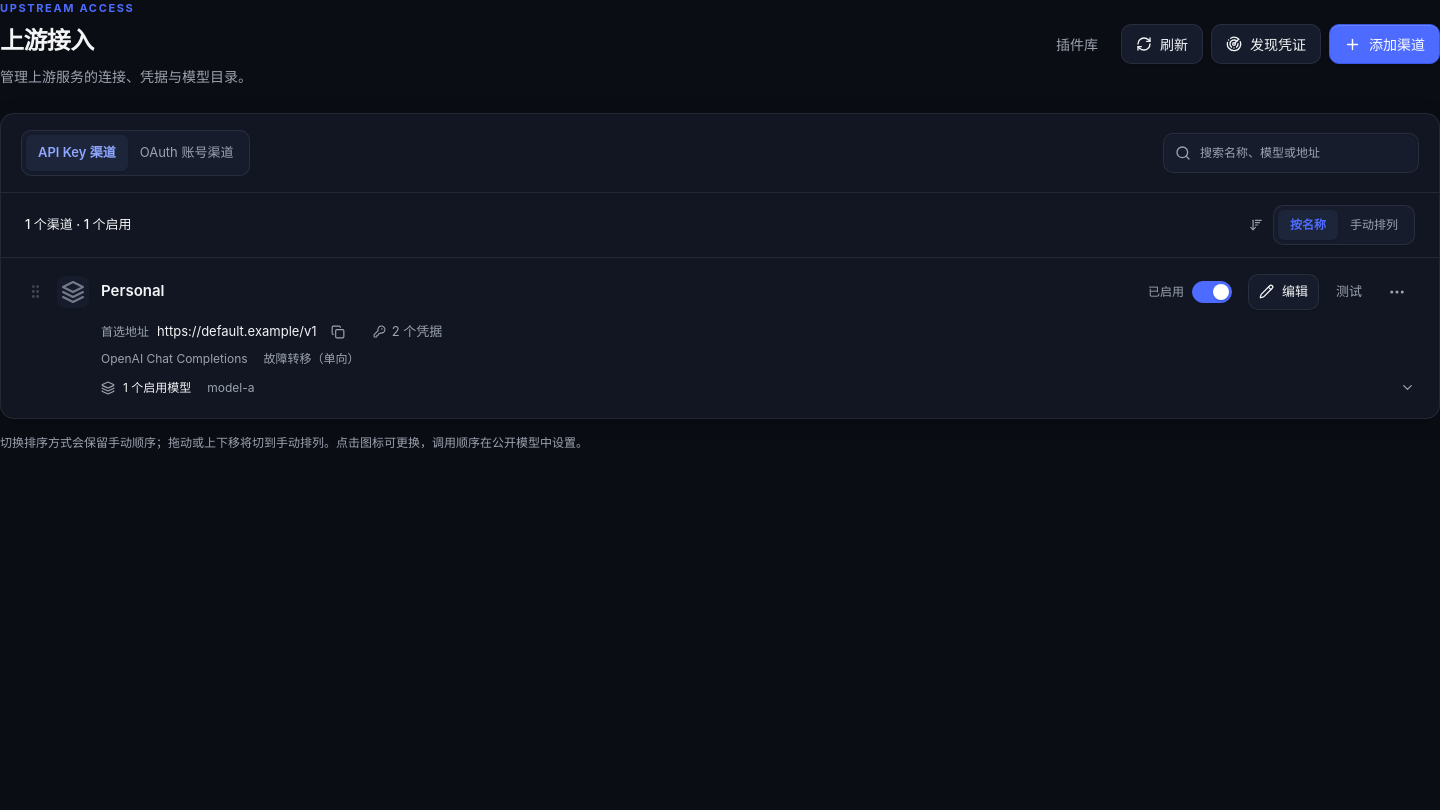
channel editor sections and unified save › waits for a confirmed save to finish before closing the editor
Click the button "Personal".
click(133, 292)  # box [101,276,164,308]
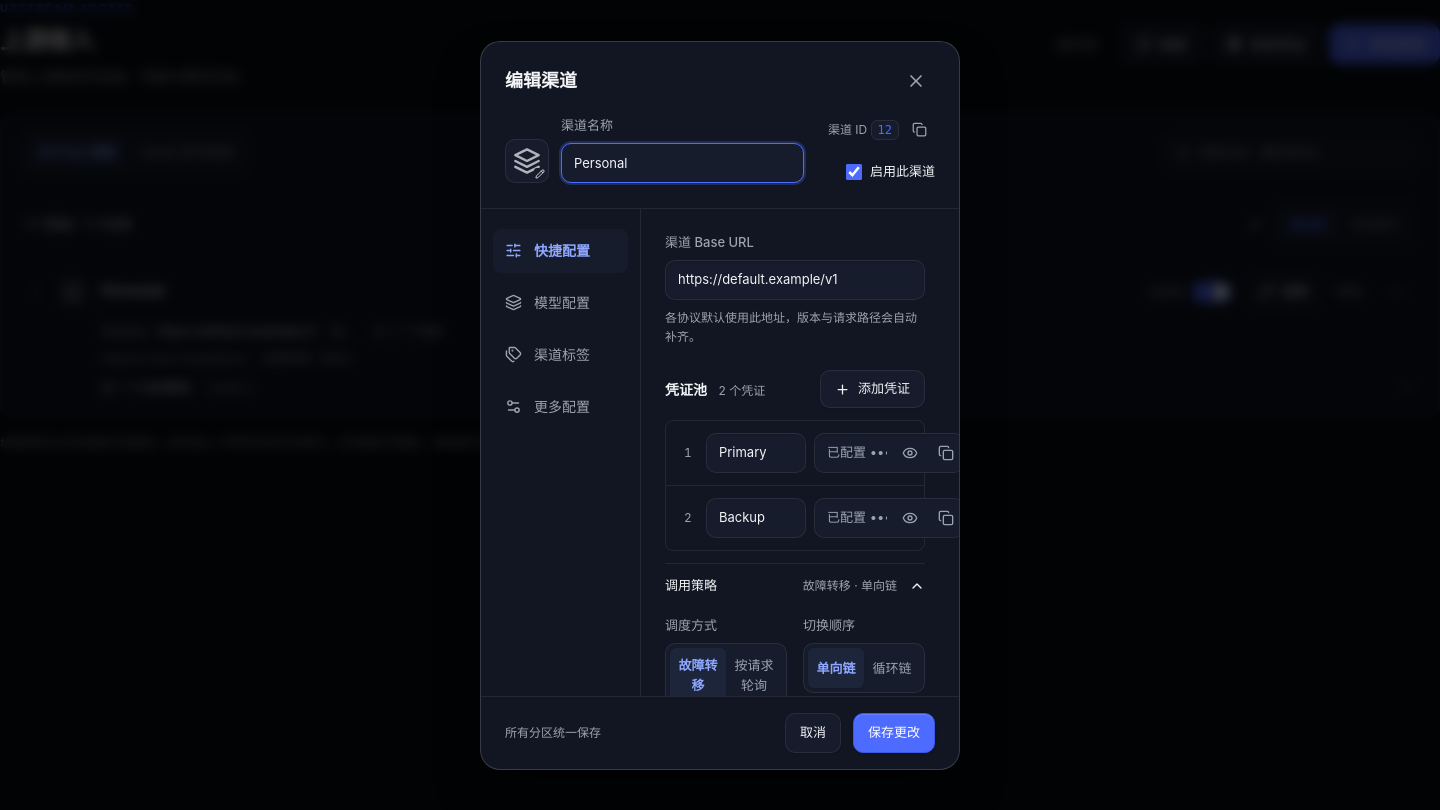
Replace the text in the field labelled "渠道名称" with "Confirmed draft" at [682, 163], box [561,143,804,183]
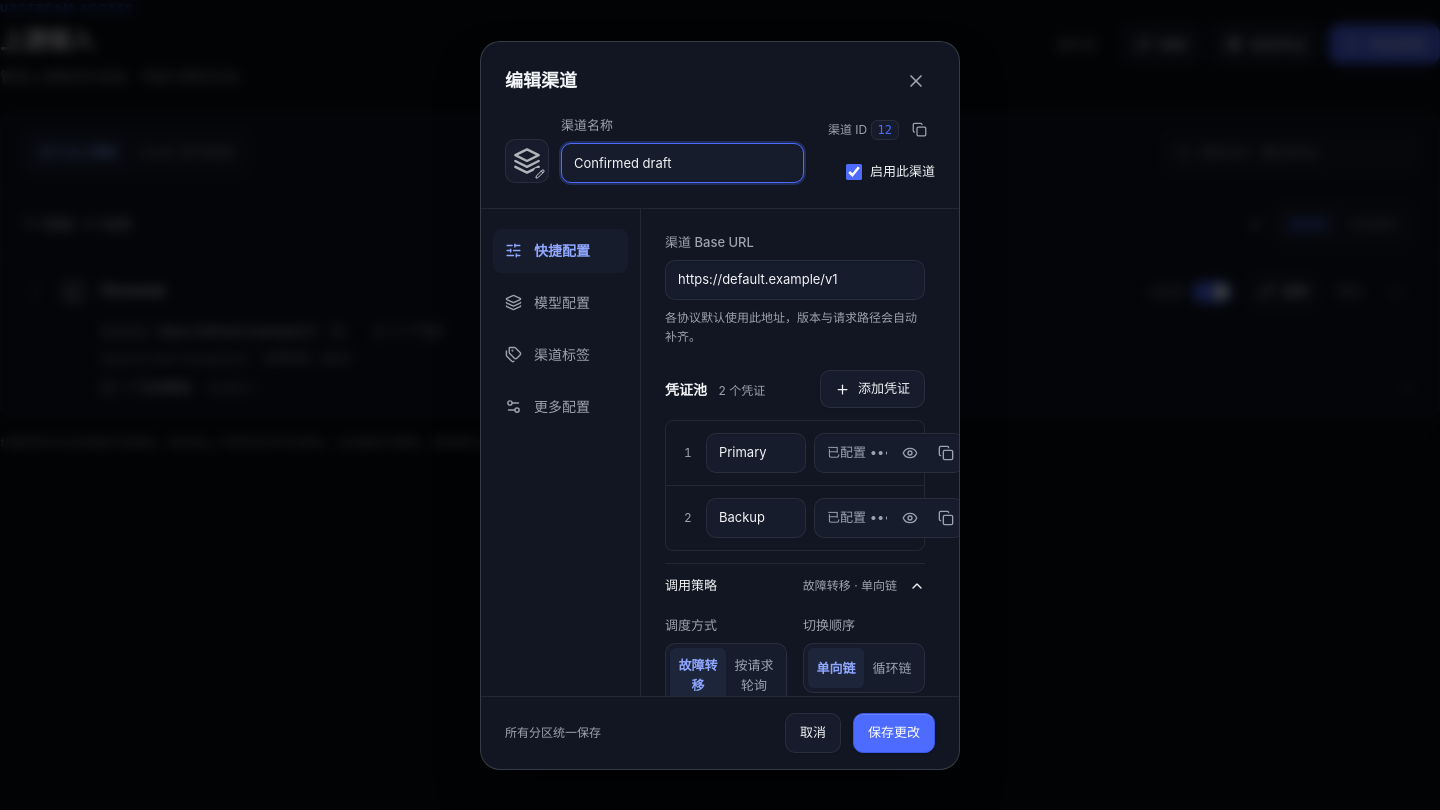
Click the button named "关闭弹窗".
click(916, 80)  # box [897,62,935,100]
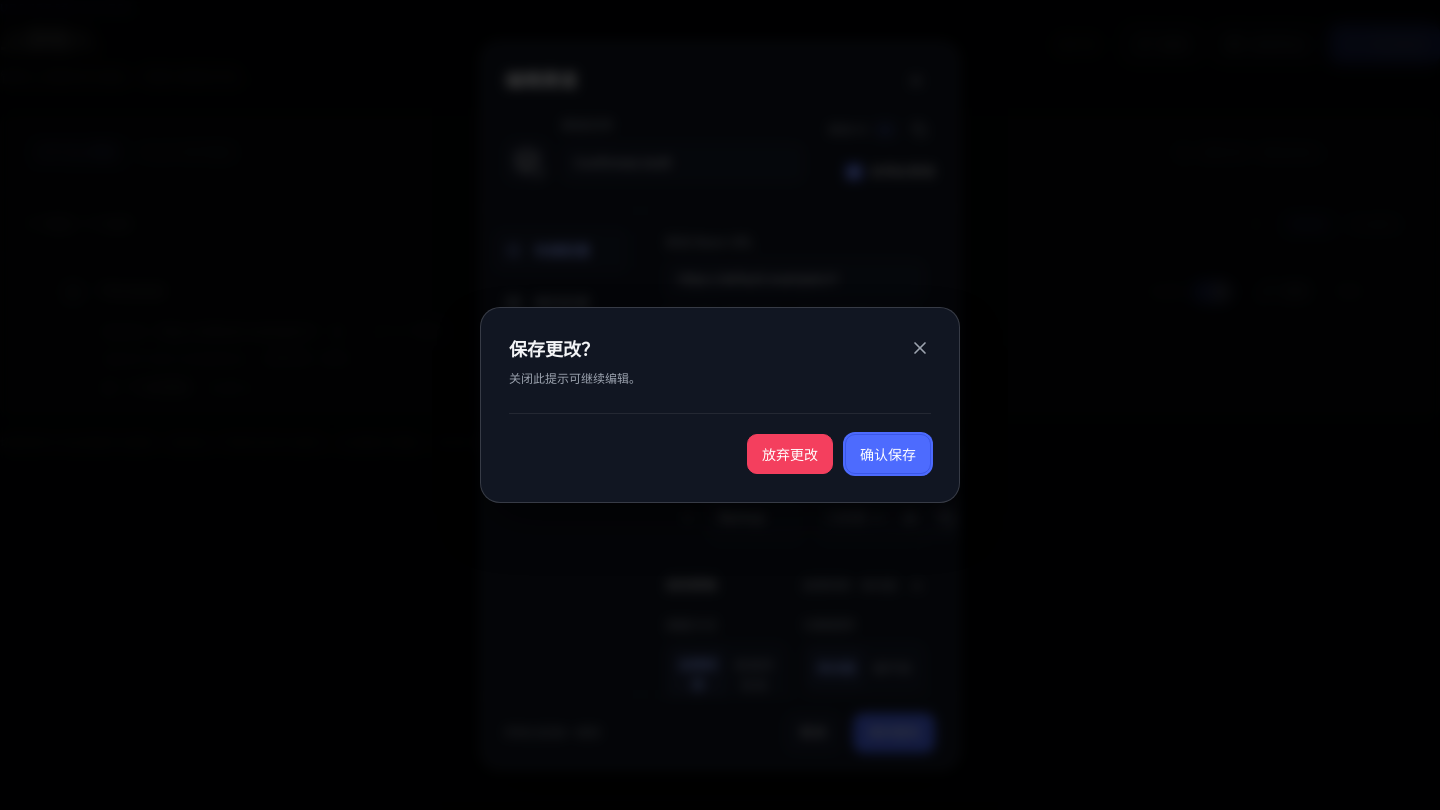
Click the button "确认保存".
click(888, 454)  # box [845,434,931,474]
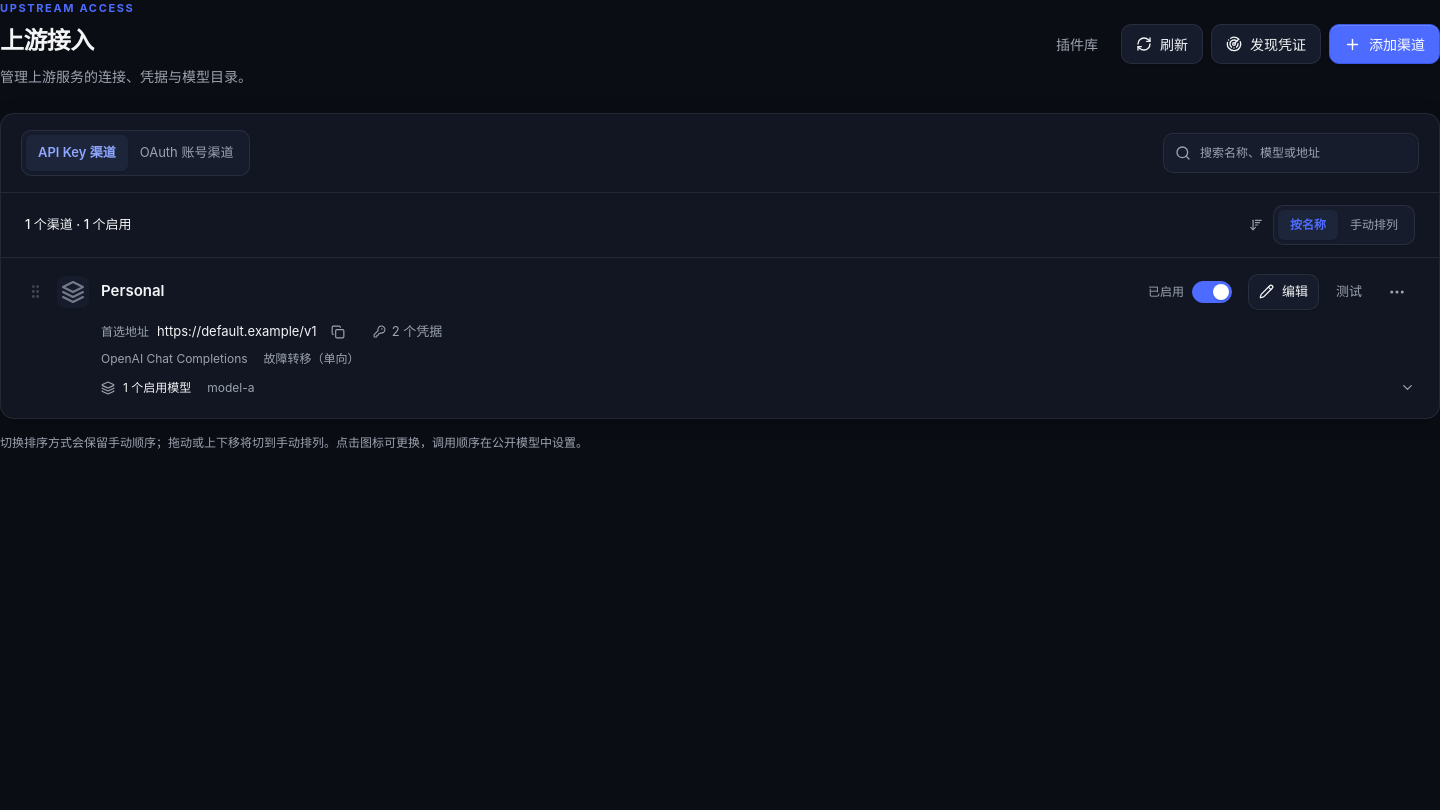
Check: the heading "编辑渠道" is gone
